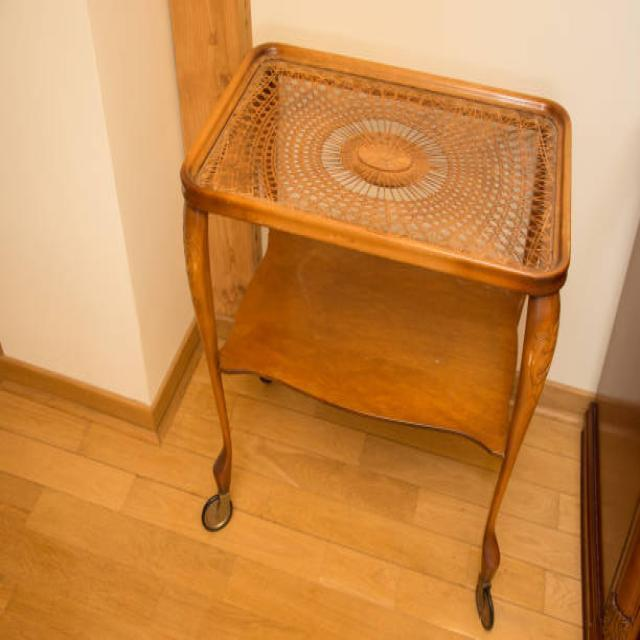table: (178, 38, 572, 630)
